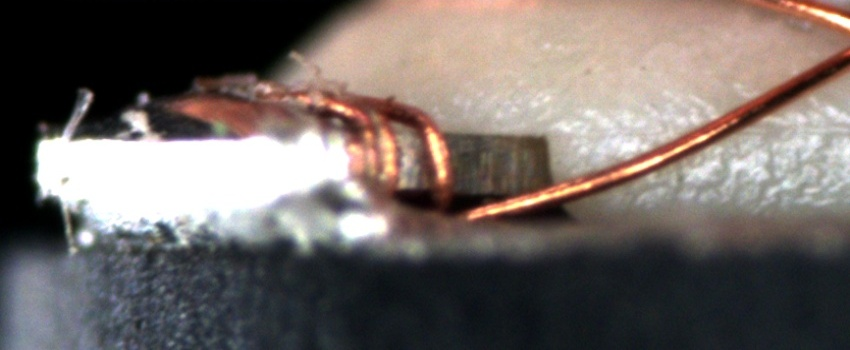DL: (545, 93, 850, 157)
TE: (180, 64, 466, 215)
